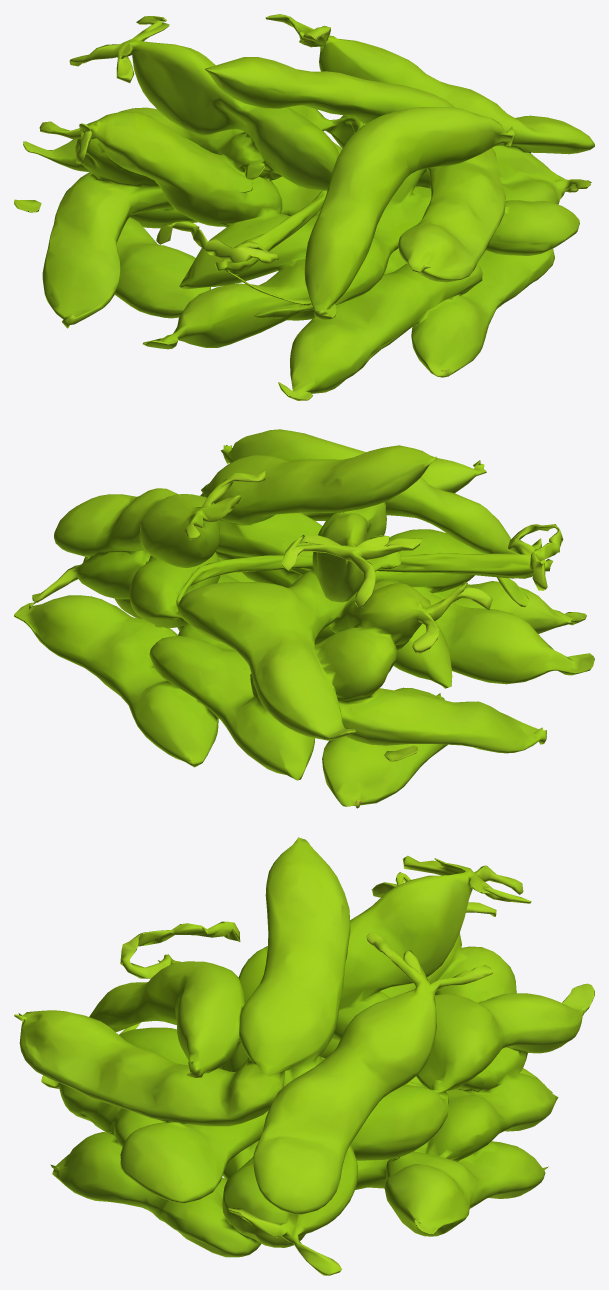
Rendered from HabasModel.glb.
3 renders of one model, top to bottom at view 1: azimuth 30°, elevation 25°; view 2: azimuth 150°, elevation 25°; view 3: azimuth 270°, elevation 25°, orthographic. The views are drawn at different scales.
Visible parts, largest first — view 1: tripo_node_9e5b9fea-23d8-40a0-88e9-1ae26458d5bc; view 2: tripo_node_9e5b9fea-23d8-40a0-88e9-1ae26458d5bc; view 3: tripo_node_9e5b9fea-23d8-40a0-88e9-1ae26458d5bc.
Part boxes in pixels (left/top/right/bottom): tripo_node_9e5b9fea-23d8-40a0-88e9-1ae26458d5bc: left=14, top=14, right=594, bottom=400; tripo_node_9e5b9fea-23d8-40a0-88e9-1ae26458d5bc: left=14, top=429, right=594, bottom=808; tripo_node_9e5b9fea-23d8-40a0-88e9-1ae26458d5bc: left=14, top=837, right=594, bottom=1275.
Bounding box in the file's own units: 1 × 0.4882 × 0.9167.
Materials: 1 (1 with a texture image).
